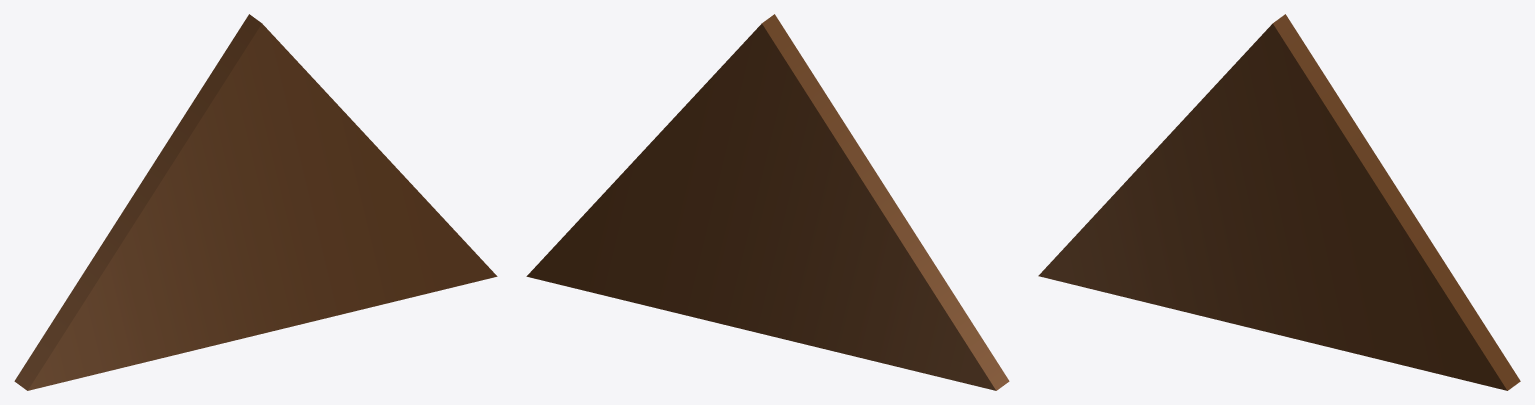
Rendered from Farmhouse_Gable.fbx.
3 views of the same model, side by side, from view 1: azimuth 30°, elevation 25°; view 2: azimuth 150°, elevation 25°; view 3: azimuth 330°, elevation 25° (orthographic).
Parts seen in each view (by area): view 1: Farmhouse_Gable; view 2: Farmhouse_Gable; view 3: Farmhouse_Gable.
Part boxes in pixels (x1,y1,x2,y2): Farmhouse_Gable: [14, 14, 497, 390]; Farmhouse_Gable: [526, 14, 1009, 390]; Farmhouse_Gable: [1038, 14, 1520, 390].
Size of the model in its own units: 4.12 by 2.6 by 0.2.
Materials: 1 (1 with a texture image).
